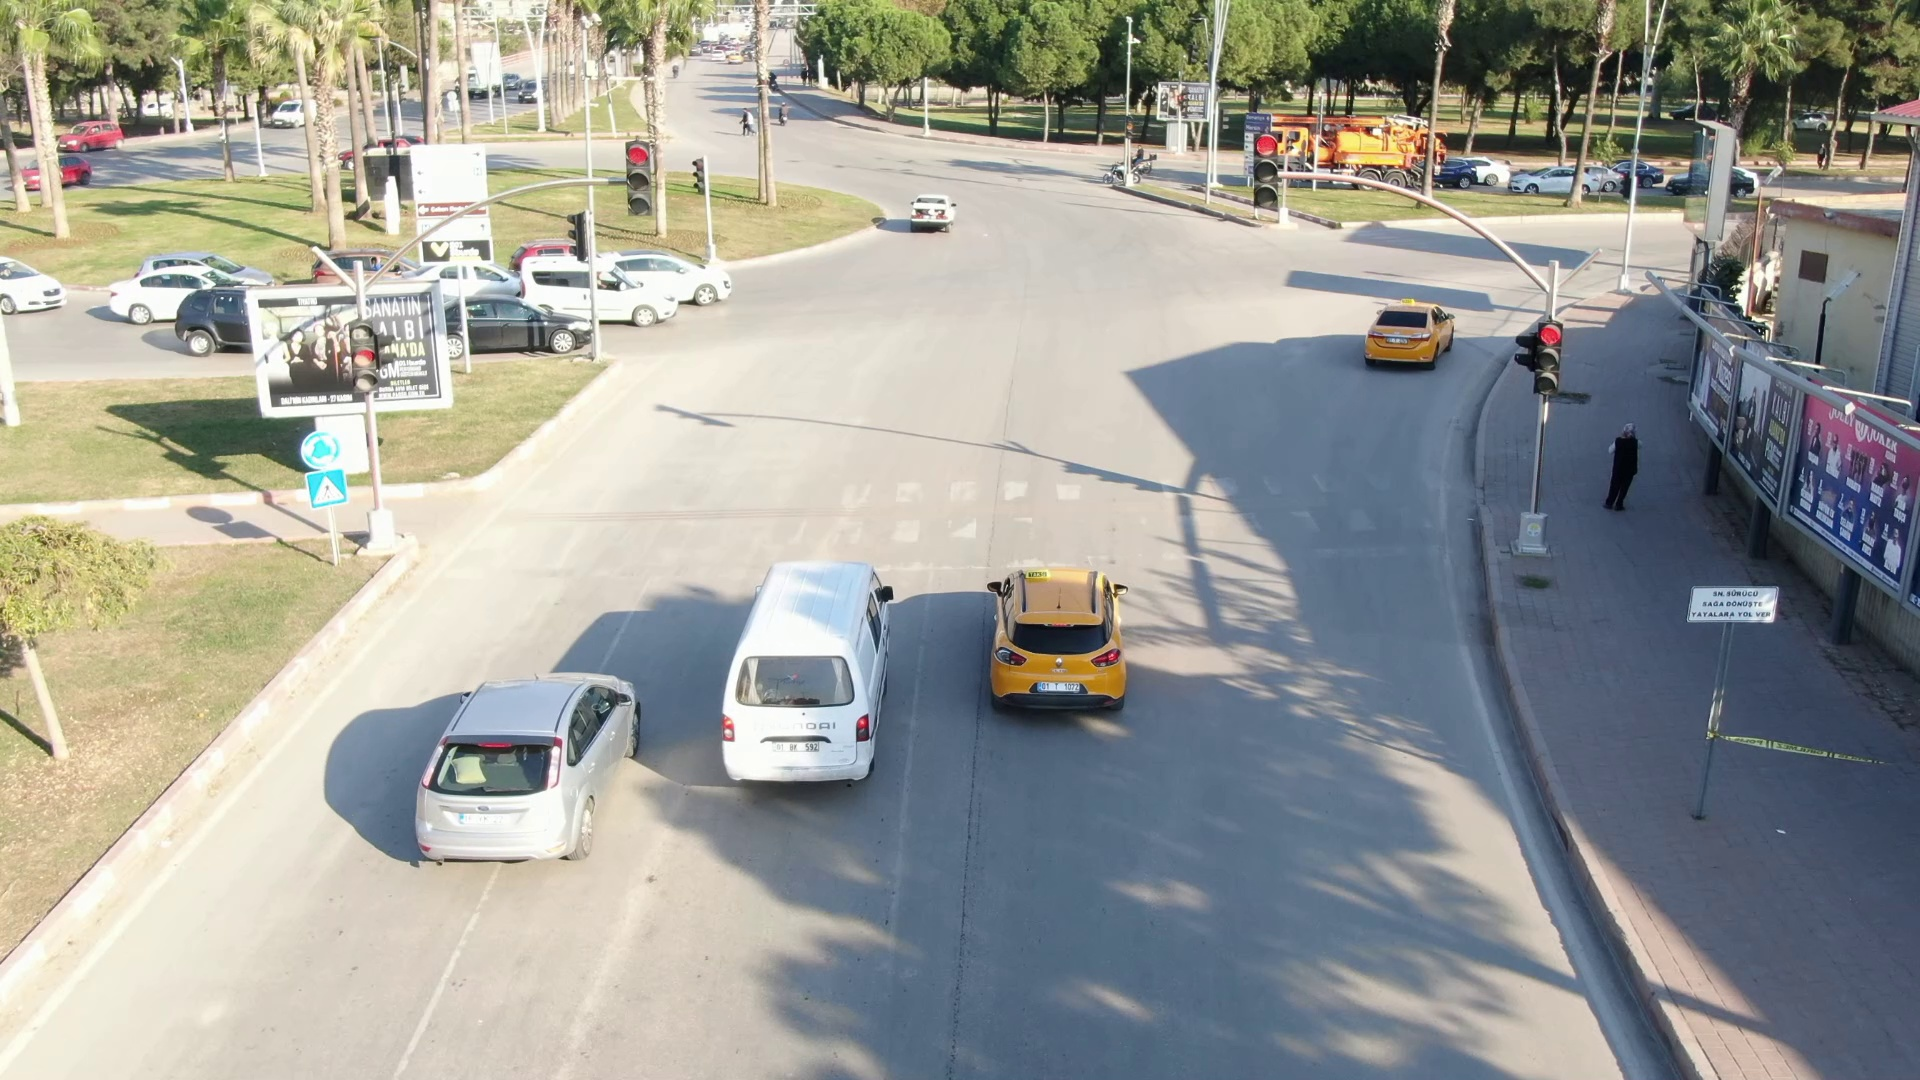car: (717, 551, 910, 798), (415, 661, 639, 851), (982, 566, 1149, 717), (508, 247, 668, 327), (457, 292, 596, 359), (102, 266, 251, 323), (606, 243, 741, 304), (1361, 294, 1455, 368), (170, 288, 253, 357), (898, 186, 959, 235)
person: (1600, 421, 1641, 515)
